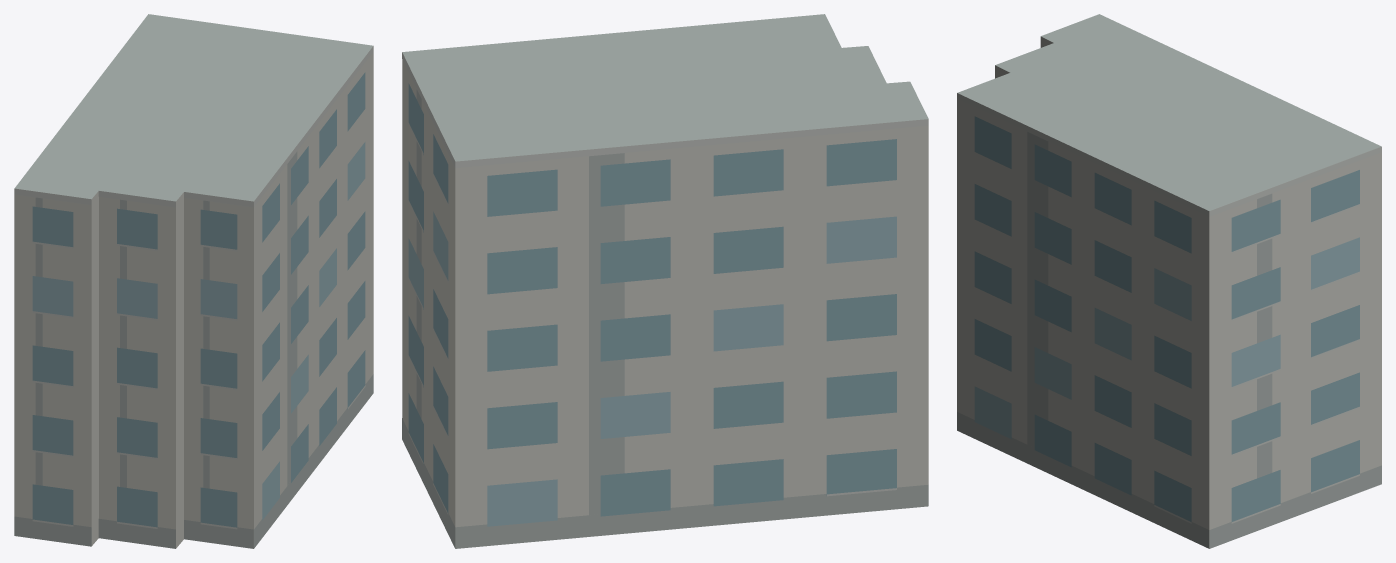
Rendered from survey-upis-32636317.glb.
3 views of the same model, side by side, from view 1: azimuth 30°, elevation 25°; view 2: azimuth 150°, elevation 25°; view 3: azimuth 270°, elevation 25° (orthographic). The views are drawn at different scales.
Visible parts, largest first — view 1: survey-upis-32636317.tmp; view 2: survey-upis-32636317.tmp; view 3: survey-upis-32636317.tmp.
Part boxes in pixels (box(x1,y1,x2,y2)): survey-upis-32636317.tmp: box(14, 14, 373, 548); survey-upis-32636317.tmp: box(402, 14, 928, 548); survey-upis-32636317.tmp: box(957, 14, 1381, 548).
Bounding box in the file's own units: 17.67 × 14.1 × 16.08.
